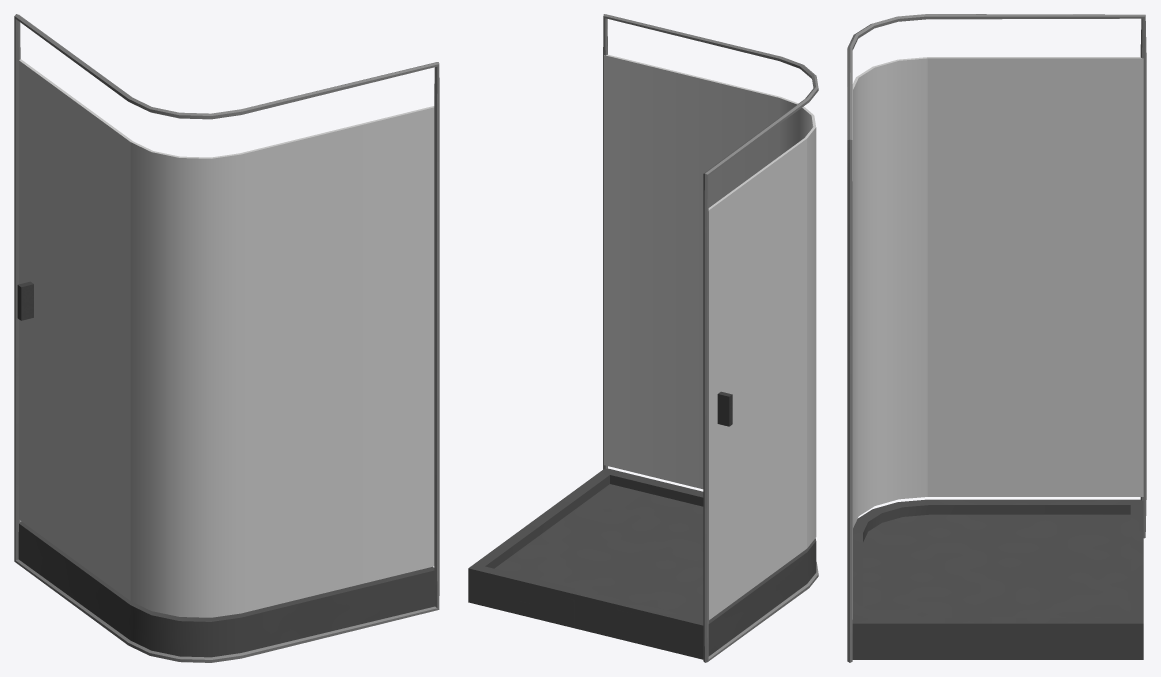
File: Shower_Stage.fbx
3 renders of one model, left to right at view 1: azimuth 30°, elevation 25°; view 2: azimuth 150°, elevation 25°; view 3: azimuth 270°, elevation 25°, orthographic. The views are drawn at different scales.
Visible parts, largest first — view 1: Shower_Stage, Shower_Stage_Door; view 2: Shower_Stage, Shower_Stage_Door; view 3: Shower_Stage_Door, Shower_Stage.
Part boxes in pixels (x1,y1,x2,y2): Shower_Stage: (14, 14, 439, 662); Shower_Stage_Door: (17, 59, 132, 600); Shower_Stage: (468, 14, 818, 662); Shower_Stage_Door: (708, 138, 806, 619); Shower_Stage_Door: (927, 57, 1143, 496); Shower_Stage: (847, 14, 1146, 662).
Bounding box in the file's own units: 1.03 × 1.91 × 0.9881.
